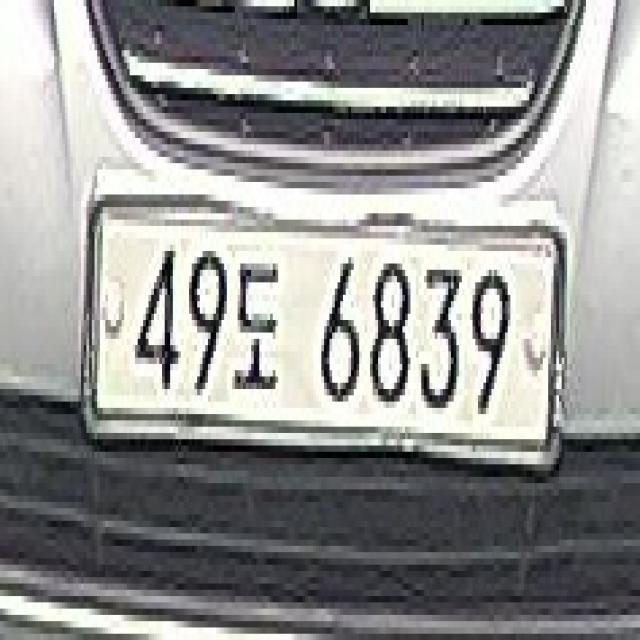3: (420, 260, 464, 420)
4: (134, 248, 182, 401)
6: (314, 240, 364, 418)
8: (371, 245, 412, 416)
9: (185, 242, 229, 407), (468, 260, 512, 424)
do: (235, 245, 285, 402)
license_plate: (77, 158, 574, 498)
